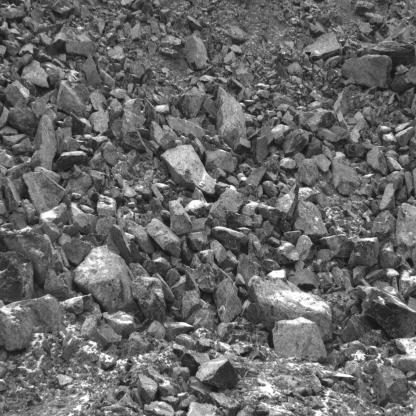stone: (70, 244, 144, 320), (248, 274, 332, 332), (360, 287, 416, 340), (161, 145, 217, 196), (272, 316, 328, 359), (23, 171, 66, 216), (340, 55, 392, 88), (132, 276, 166, 326), (370, 367, 410, 408), (29, 114, 58, 170), (0, 251, 31, 303), (392, 201, 416, 264), (293, 200, 329, 242), (165, 111, 218, 139), (217, 89, 246, 140), (144, 218, 181, 255), (213, 277, 242, 323), (265, 181, 299, 219), (196, 359, 240, 387), (9, 100, 40, 138), (340, 316, 379, 344), (298, 108, 337, 136), (331, 157, 360, 194), (347, 237, 380, 269), (184, 300, 215, 333), (371, 211, 397, 247), (177, 88, 207, 119), (118, 122, 146, 154), (168, 200, 193, 235), (184, 32, 207, 70), (282, 130, 313, 157), (319, 233, 350, 258), (191, 263, 215, 294), (55, 151, 88, 173), (238, 254, 259, 288), (178, 290, 200, 322), (297, 157, 320, 186), (367, 148, 388, 176), (255, 204, 282, 225), (224, 210, 252, 230), (296, 235, 316, 262), (141, 99, 159, 128), (379, 183, 395, 211), (71, 83, 91, 105), (252, 136, 268, 163), (116, 73, 141, 90), (98, 195, 117, 215), (210, 135, 232, 151), (364, 12, 385, 27), (233, 137, 251, 153), (222, 239, 241, 254), (345, 143, 365, 157), (355, 2, 376, 15), (95, 82, 111, 98), (278, 218, 292, 233)
